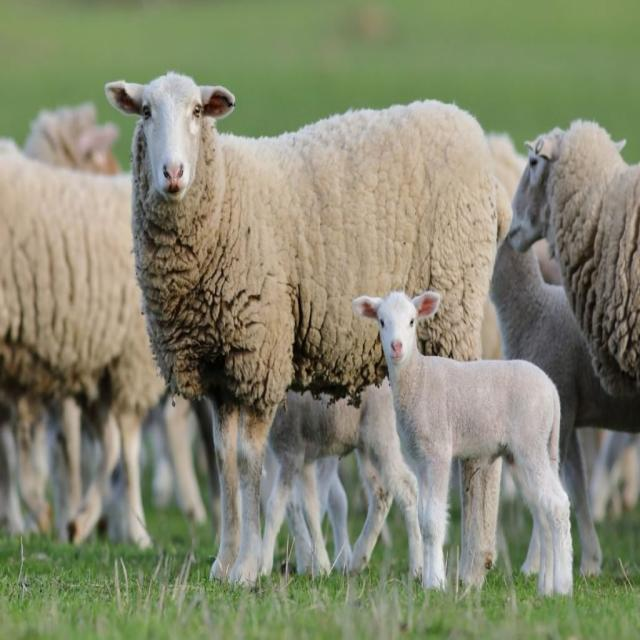Boar: (103, 70, 512, 590), (350, 286, 574, 600)
